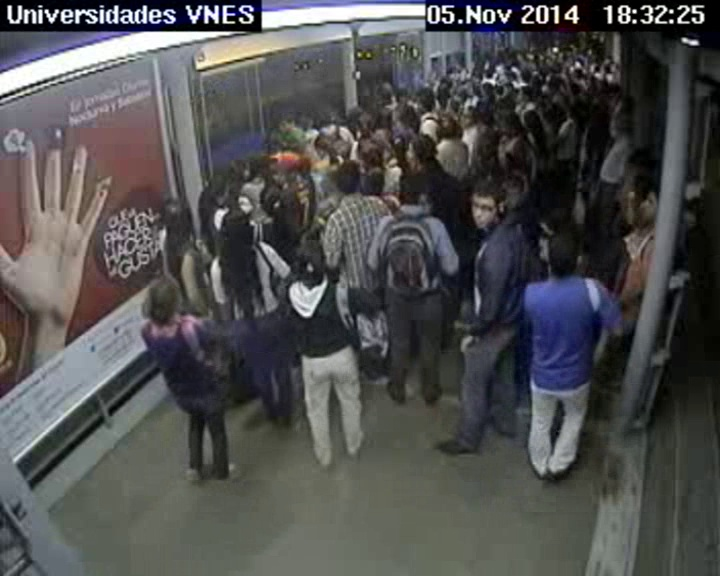person: (144, 275, 191, 320), (470, 184, 510, 231), (547, 229, 587, 274), (163, 202, 195, 237), (220, 206, 251, 237), (297, 247, 327, 279), (638, 187, 667, 220), (500, 173, 529, 205), (403, 138, 434, 166), (336, 161, 362, 192), (204, 176, 230, 206), (398, 178, 426, 205), (627, 169, 650, 194), (276, 157, 300, 180), (229, 157, 251, 182), (362, 139, 385, 162), (364, 168, 387, 191), (477, 141, 500, 163), (375, 83, 396, 106), (252, 157, 273, 179), (319, 118, 339, 140), (315, 136, 335, 157), (439, 118, 458, 138), (524, 109, 543, 128), (376, 107, 395, 126), (418, 93, 436, 113), (506, 137, 525, 155), (279, 114, 297, 133), (618, 114, 635, 132), (517, 85, 533, 103), (504, 112, 522, 128), (616, 94, 632, 111), (478, 112, 493, 127), (498, 132, 511, 148), (548, 77, 561, 92), (396, 87, 409, 102), (464, 111, 477, 125), (491, 111, 504, 124), (570, 82, 582, 96), (480, 82, 492, 96), (521, 67, 532, 81), (465, 85, 476, 97), (450, 101, 461, 113), (608, 82, 619, 94), (406, 106, 417, 118), (531, 77, 541, 89), (596, 95, 606, 107), (400, 112, 410, 124), (538, 67, 548, 78), (566, 108, 576, 119), (542, 111, 552, 122), (438, 87, 448, 97), (574, 58, 583, 69), (495, 85, 504, 96), (516, 52, 525, 62), (508, 56, 517, 66), (505, 83, 514, 93), (542, 95, 552, 104), (586, 75, 594, 85), (584, 47, 592, 56), (603, 65, 612, 73), (574, 70, 582, 79), (486, 69, 494, 78), (472, 69, 480, 78), (546, 56, 554, 64), (553, 63, 561, 71), (504, 72, 512, 80), (569, 43, 577, 50), (565, 49, 572, 57), (538, 54, 545, 62), (594, 66, 601, 73), (561, 55, 568, 62), (608, 56, 613, 62)
